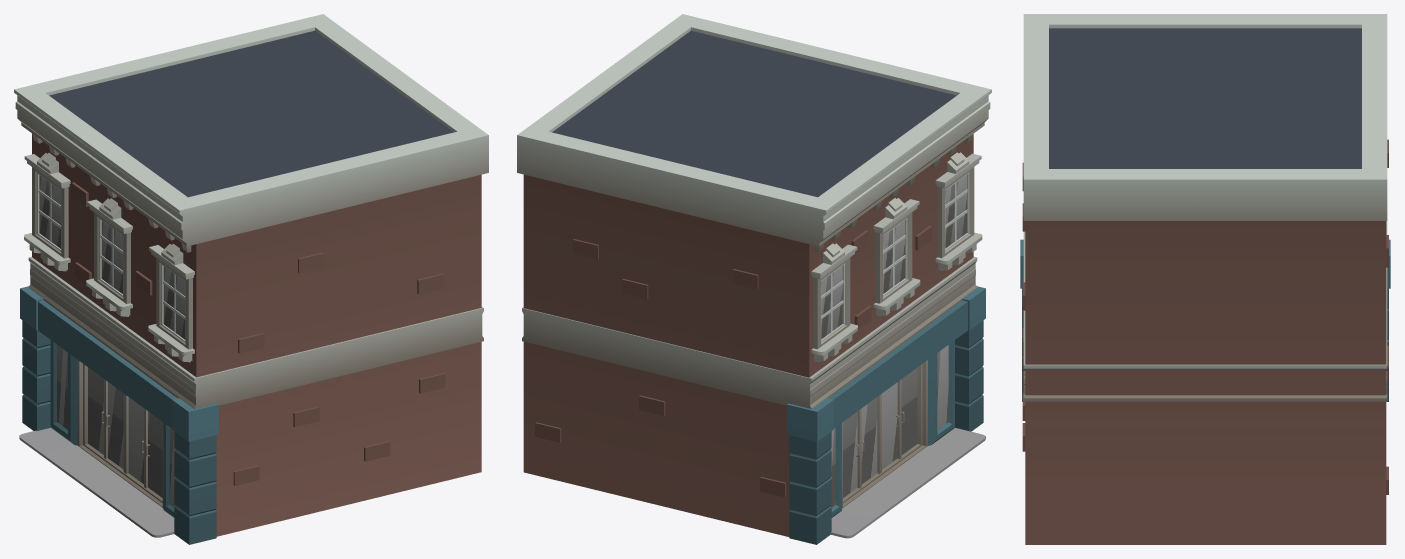
File: Building_21_4_H.glb
3 views of the same model, side by side, from view 1: azimuth 30°, elevation 25°; view 2: azimuth 150°, elevation 25°; view 3: azimuth 270°, elevation 25° (orthographic). The views are drawn at different scales.
Visible parts, largest first — view 1: Building_21_4_H; view 2: Building_21_4_H; view 3: Building_21_4_H.
Part boxes in pixels (x1,y1,x2,y2): Building_21_4_H: (14,14,488,544); Building_21_4_H: (517,14,991,544); Building_21_4_H: (1020,14,1390,544).
Bounding box in the file's own units: 7.79 × 7.82 × 7.13.
Materials: 3 (3 with a texture image).
